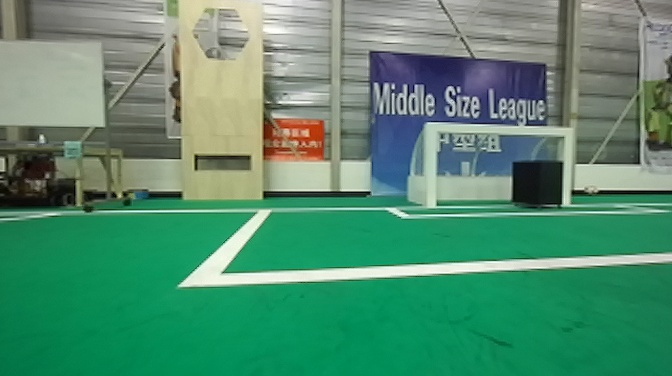ball: (584, 182, 602, 199)
goalpost: (425, 122, 439, 210), (562, 126, 574, 205)
